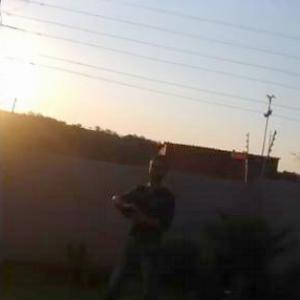follow: (104, 141, 181, 299)
